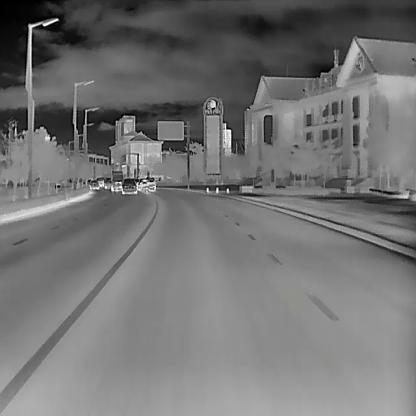car: (121, 176, 136, 194), (145, 176, 155, 192), (110, 178, 121, 192), (94, 176, 106, 188), (138, 177, 148, 190), (88, 180, 99, 190), (104, 177, 111, 189)
